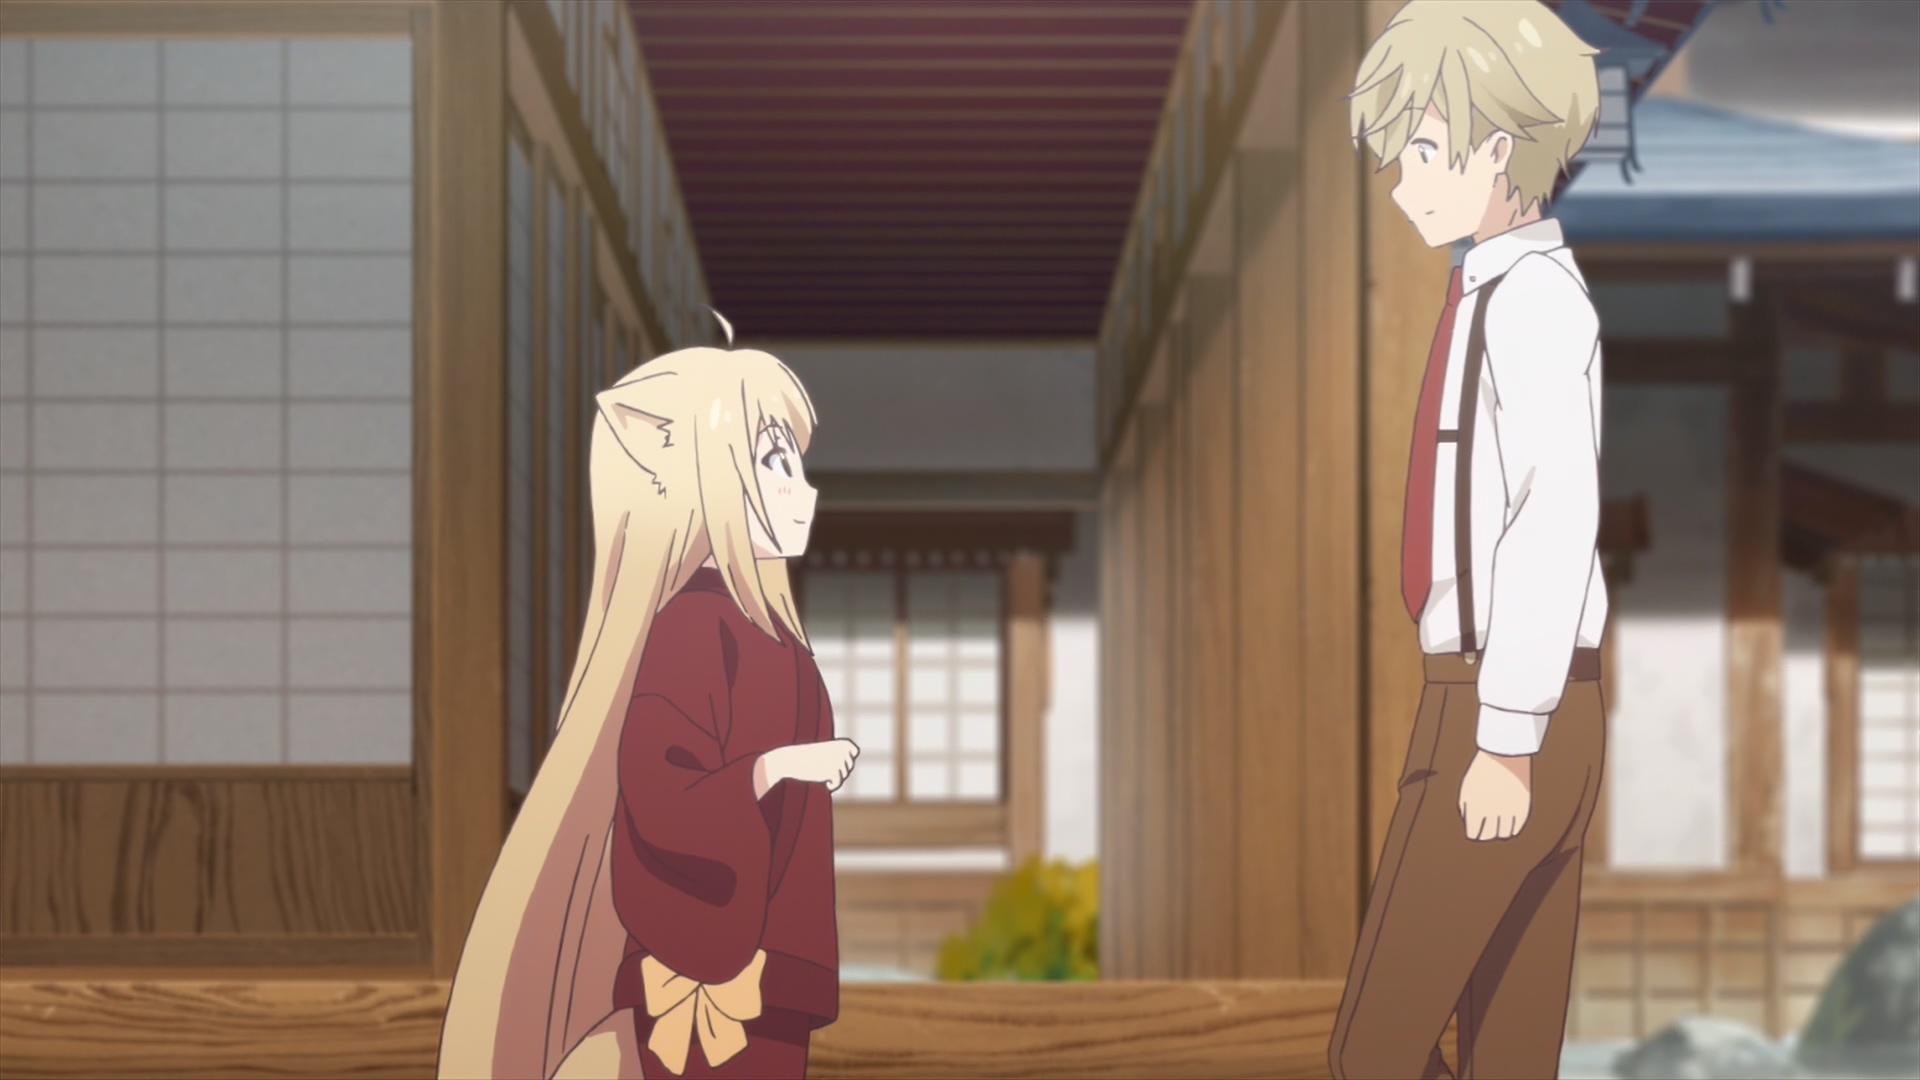其他: (1327, 1, 1611, 1080)
柚: (439, 305, 862, 1080)
